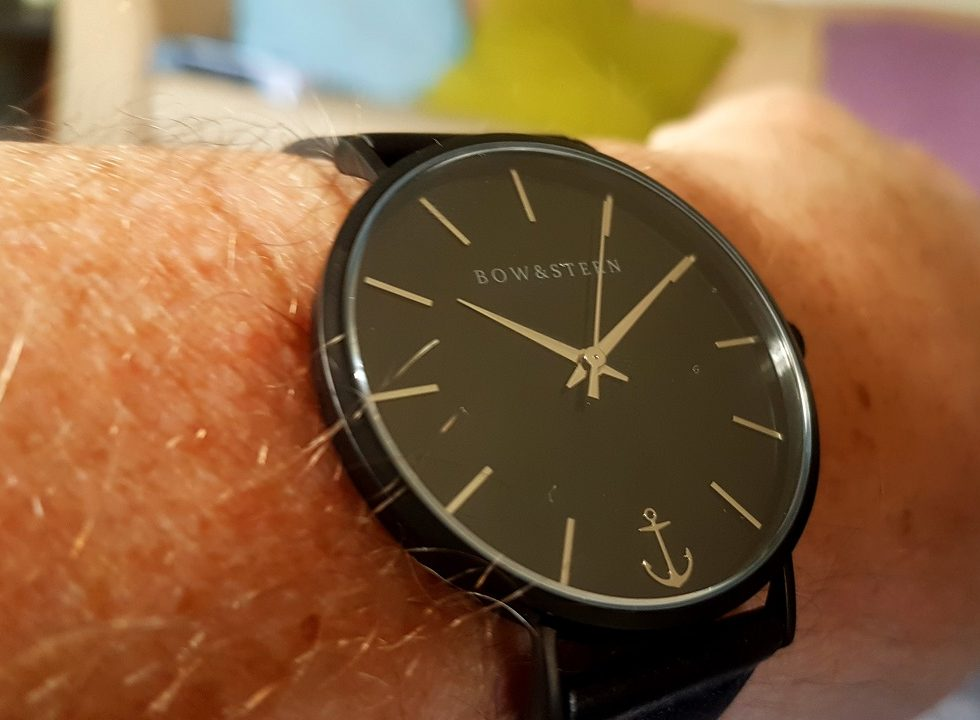clock: (334, 141, 814, 614)
